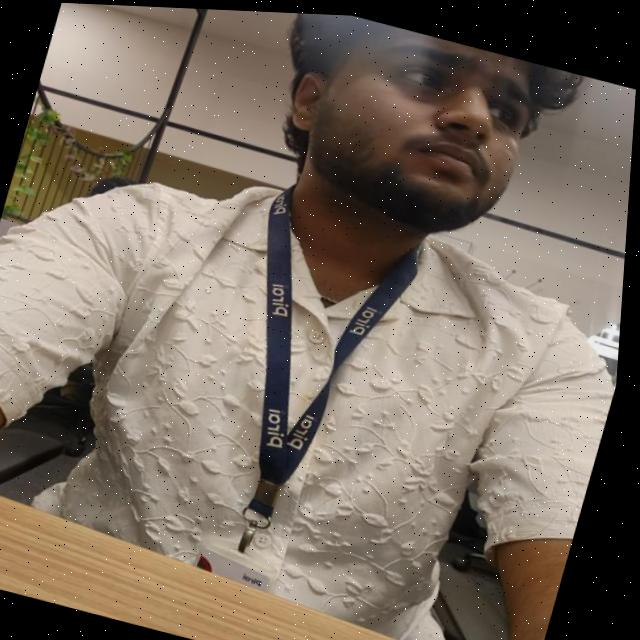id_card: (163, 173, 443, 610)
